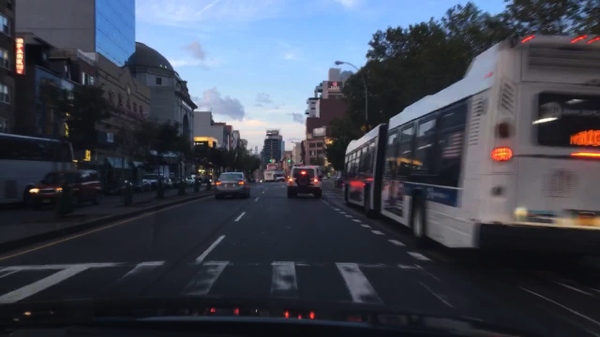bus: (343, 31, 599, 258), (0, 132, 76, 206)
car: (25, 168, 104, 209), (286, 166, 322, 198), (214, 172, 251, 201), (105, 177, 136, 196), (142, 172, 169, 192), (132, 177, 153, 193), (173, 176, 187, 190), (308, 166, 323, 178), (334, 171, 343, 189), (184, 175, 197, 187), (167, 177, 176, 190), (255, 179, 264, 184), (322, 176, 328, 181)
traffic light: (267, 158, 273, 164), (286, 159, 293, 164)
truck: (263, 171, 285, 183)
